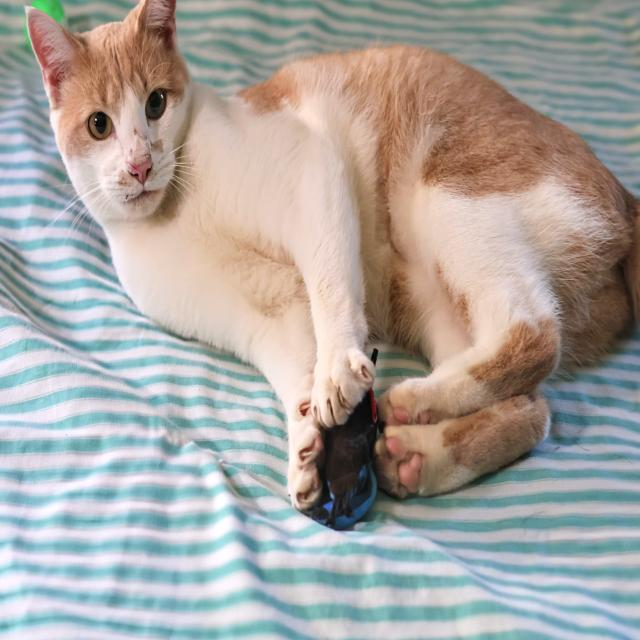American Bobtail: (21, 0, 639, 517)
